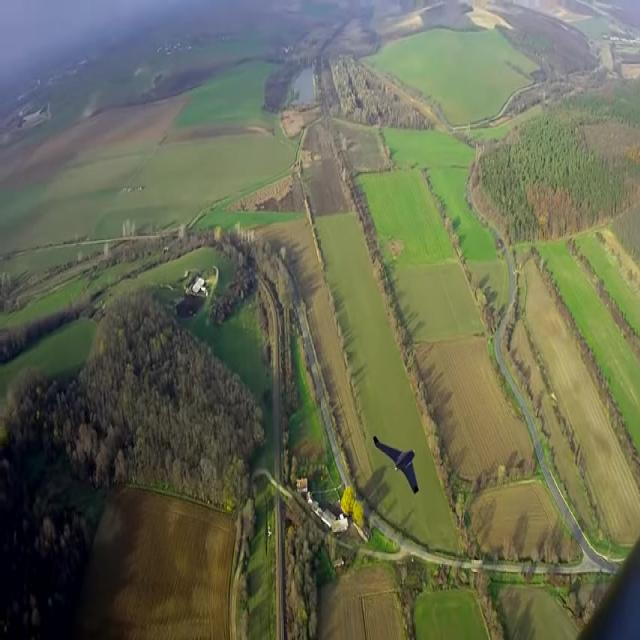iha: (366, 434, 414, 495)
